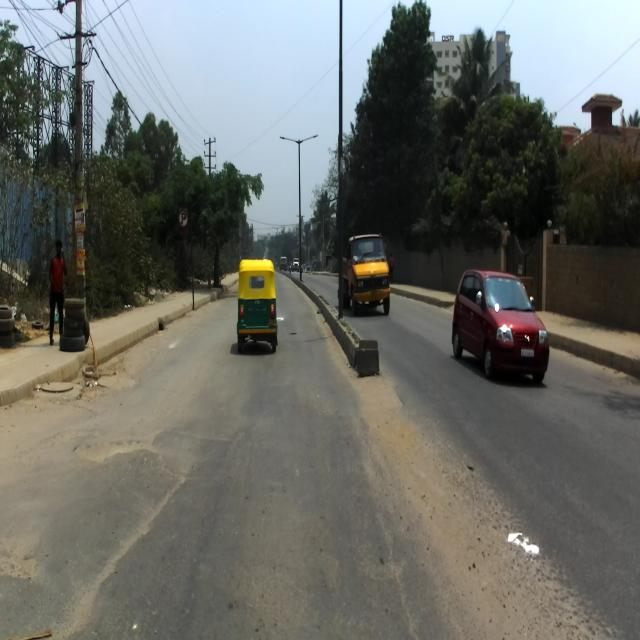auto ahead at: (234, 256, 278, 357)
car ahead at: (451, 266, 549, 384)
electric pole ahead at: (51, 0, 106, 282)
sign board ahead at: (172, 204, 192, 234)
